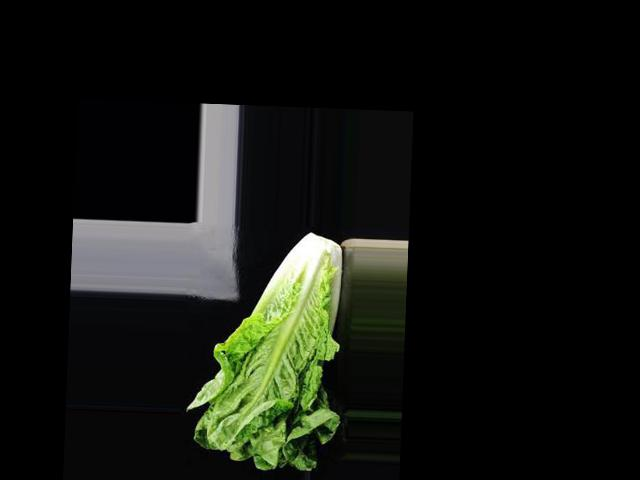lettuce: (216, 223, 420, 284)
